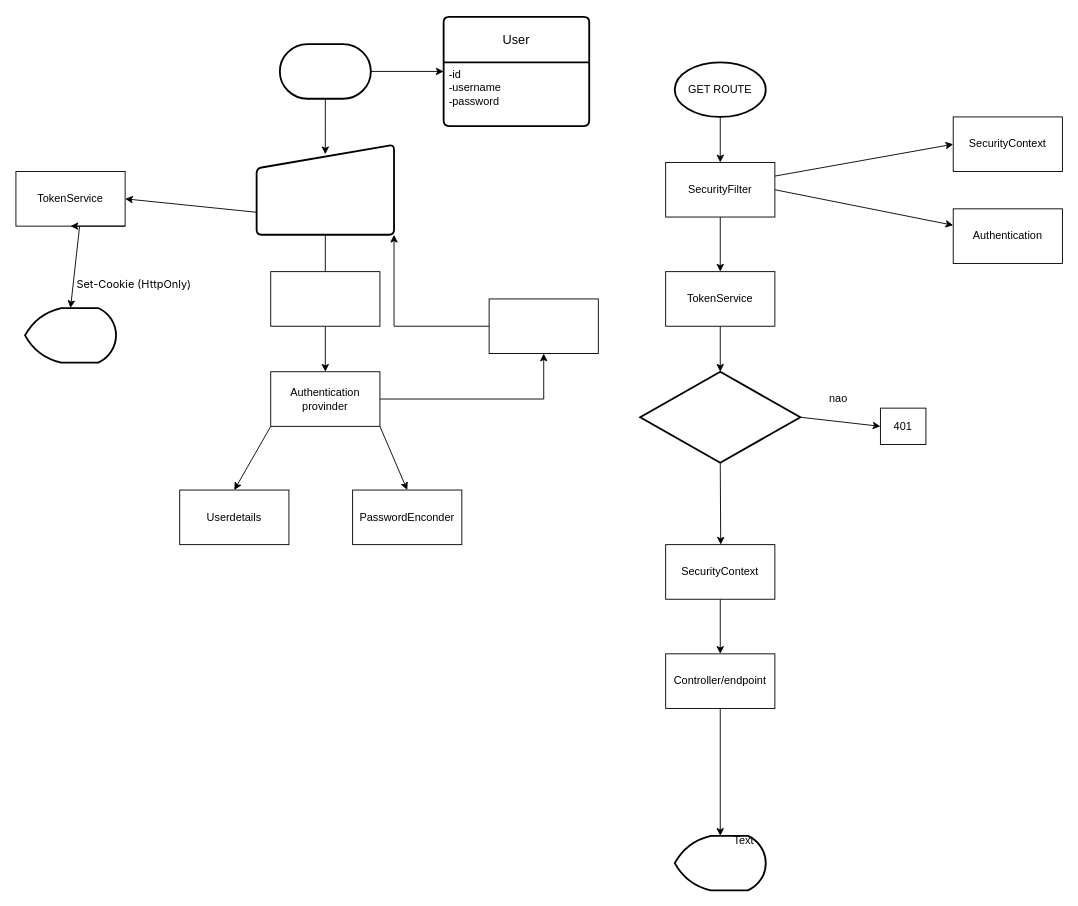
Image size: 1078x906. Some labels were removed from this diagram. Here are the shapes that lost their labels. From the top down, the box of each, then its label:
(278, 43, 371, 99): LOGIN
(255, 143, 394, 235): AuthController username + password
(270, 271, 380, 326): Authentication maneger
(24, 307, 116, 363): 200OK
(488, 298, 598, 354): Autentication
(639, 370, 801, 463): Token Valido?
(673, 834, 766, 891): 200k
